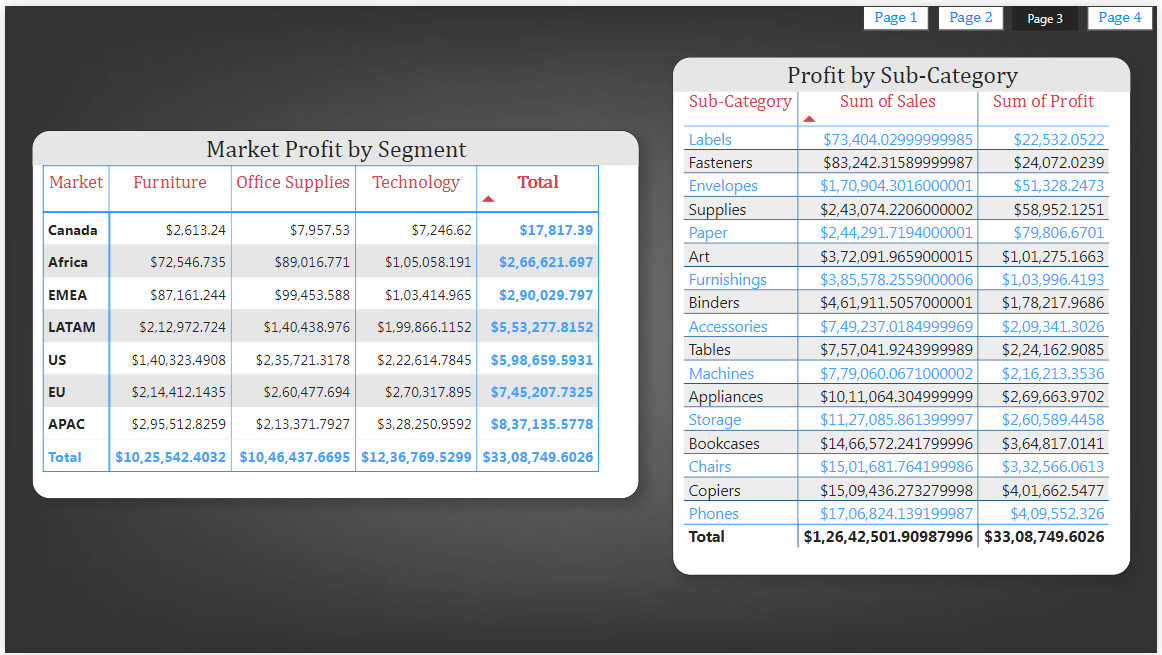

This screenshot's page, from the dashboard's own definition file:
{"tool":"powerbi","page":{"name":"Page 3","canvas":[1280,720],"ordinal":2},"visuals":[{"type":"pivotTable","title":"Market Profit by Segment","fields":{"Rows":["Orders.Market"],"Values":["Sum(Orders.Profit)"],"Columns":["Orders.Category"]},"box":[30.7,139.1,674.7,409.3],"z":0},{"type":"tableEx","title":"Profit by Sub-Category","fields":{"Values":["Orders.Sub-Category","Sum(Orders.Sales)","Sum(Orders.Profit)"]},"box":[741,56.6,509.7,576],"z":1000},{"type":"pageNavigator","box":[953.6,0,325.8,27],"z":2000}]}

Visuals, with their boxes in screenshot pixels (x1, y1, x2, y2):
"Market Profit by Segment" pivotTable: <bbox>34, 128, 638, 494</bbox>
"Profit by Sub-Category" tableEx: <bbox>669, 54, 1126, 569</bbox>
pageNavigator: <bbox>860, 3, 1151, 27</bbox>
